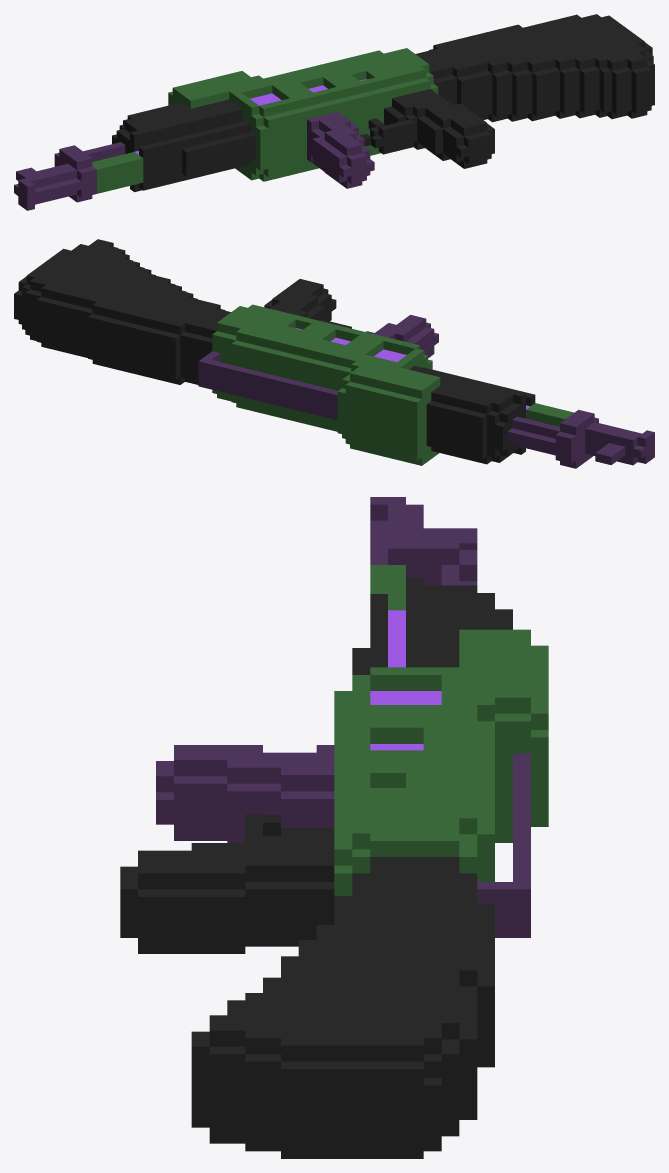
File: gun9.obj
The picture shows the model from 3 angles, top to bottom: view 1: azimuth 30°, elevation 25°; view 2: azimuth 150°, elevation 25°; view 3: azimuth 270°, elevation 25°; orthographic projection. The views are drawn at different scales.
Bounding box in the file's own units: 7.8 × 0.9 × 2.4.
1 material, 1 textured.
